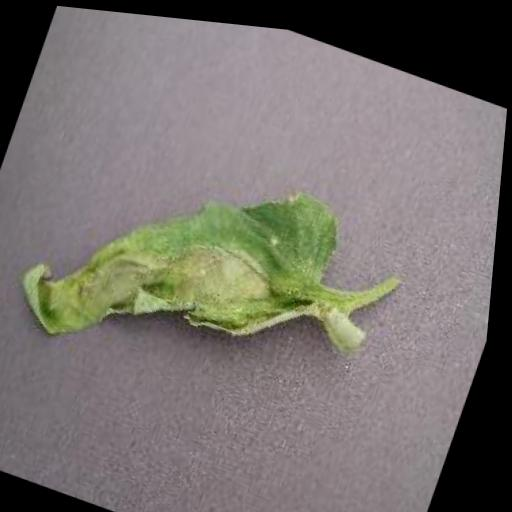Late Blight: (7, 104, 359, 412)
